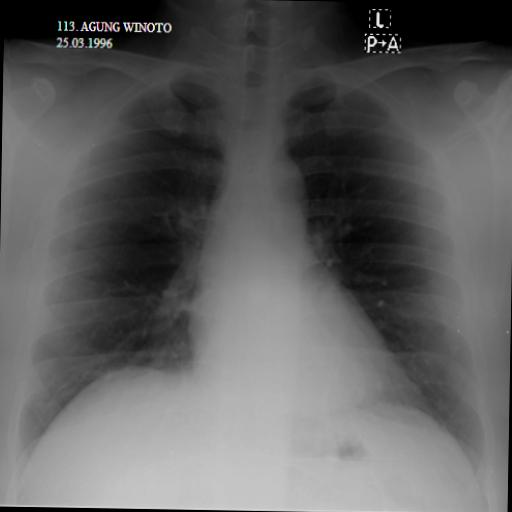normal: (2, 33, 506, 502)
